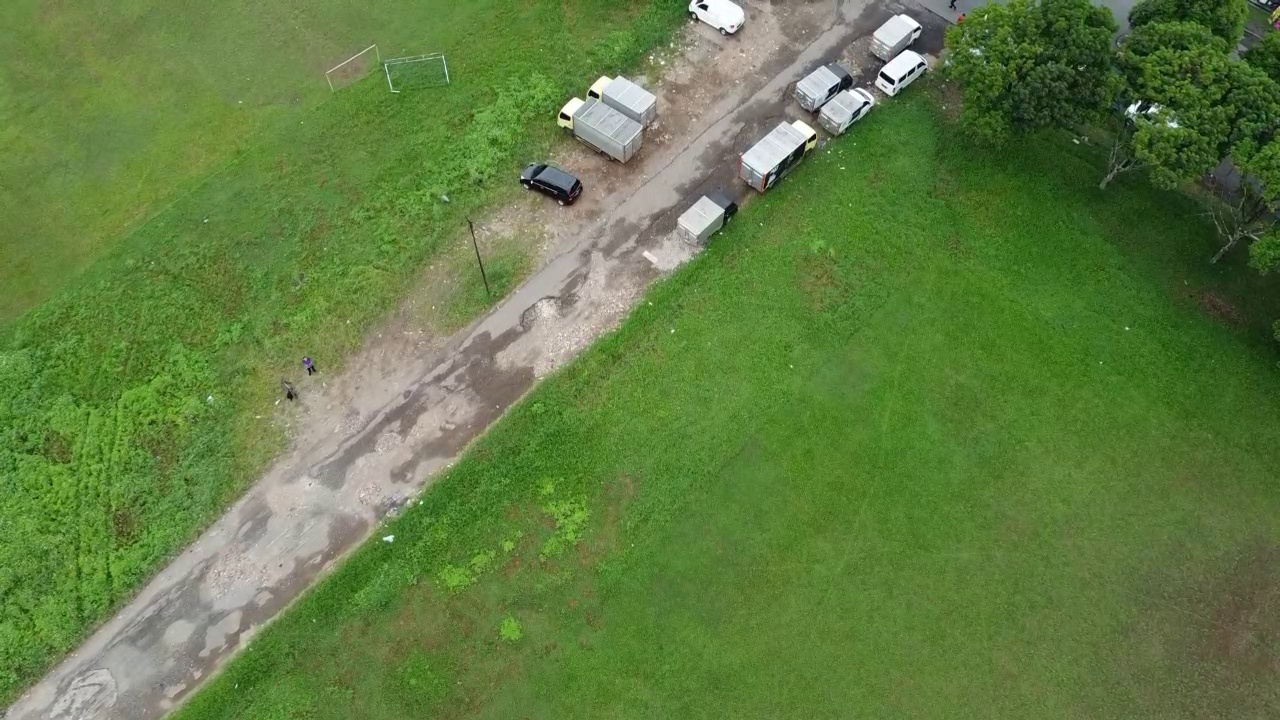mobil: (515, 157, 589, 207), (873, 45, 932, 96), (682, 1, 758, 33)
